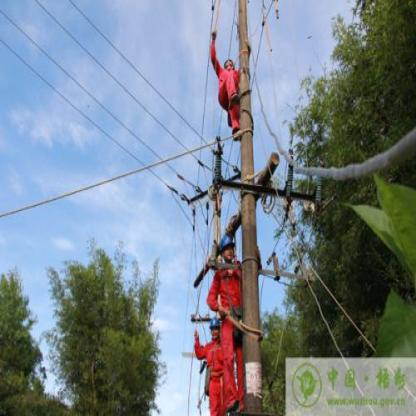helmet: (217, 230, 239, 266), (207, 314, 224, 341)
